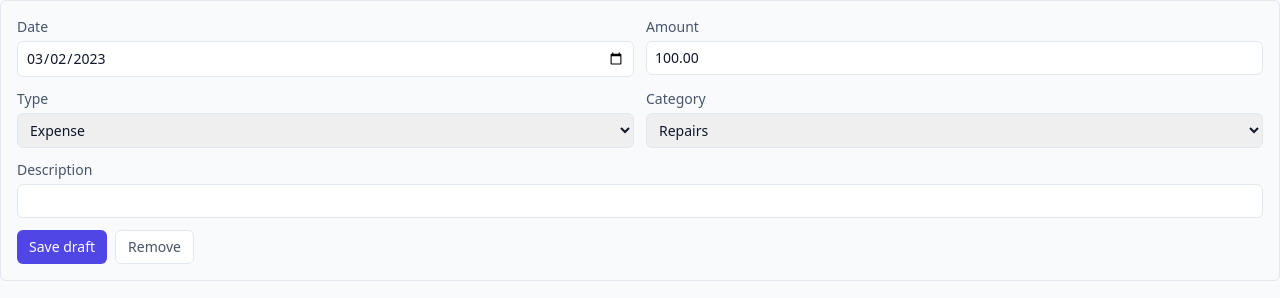
Test: DraftRow › marks the description required when the Other category is selected (Requirement 7.4)
Expected: the text "description (required)" is not shown
Select "Other" in the dropdown labelled "Category" at (954, 130), box x1=646 y1=113 x2=1263 y2=148
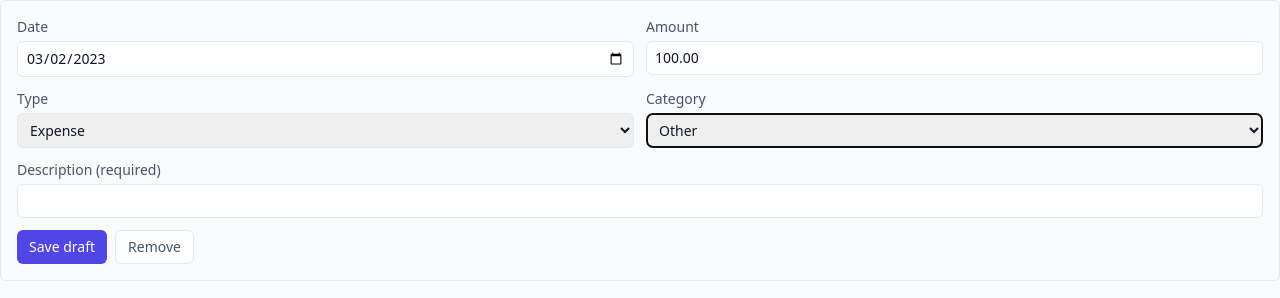
Expected: the text "Description (required)" is shown, x1=17 y1=160 x2=161 y2=179
